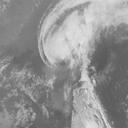cyclone: (38, 21, 87, 70)
